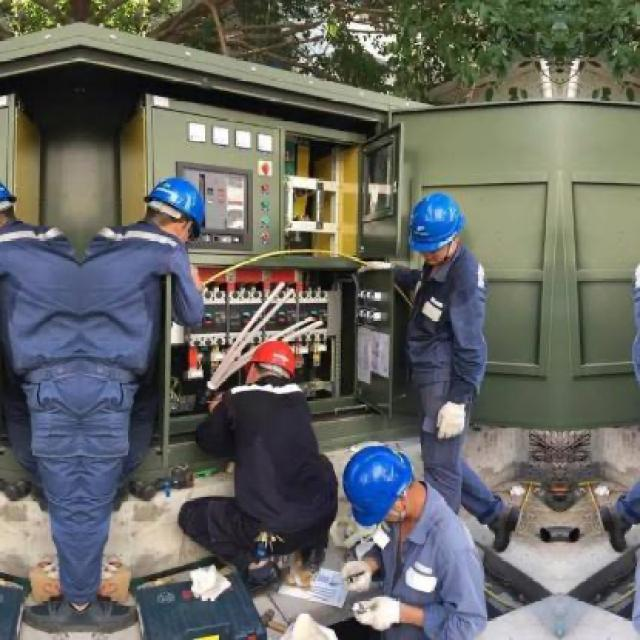helmet: (338, 438, 421, 540), (406, 189, 468, 268), (145, 174, 208, 246), (247, 337, 299, 389)
